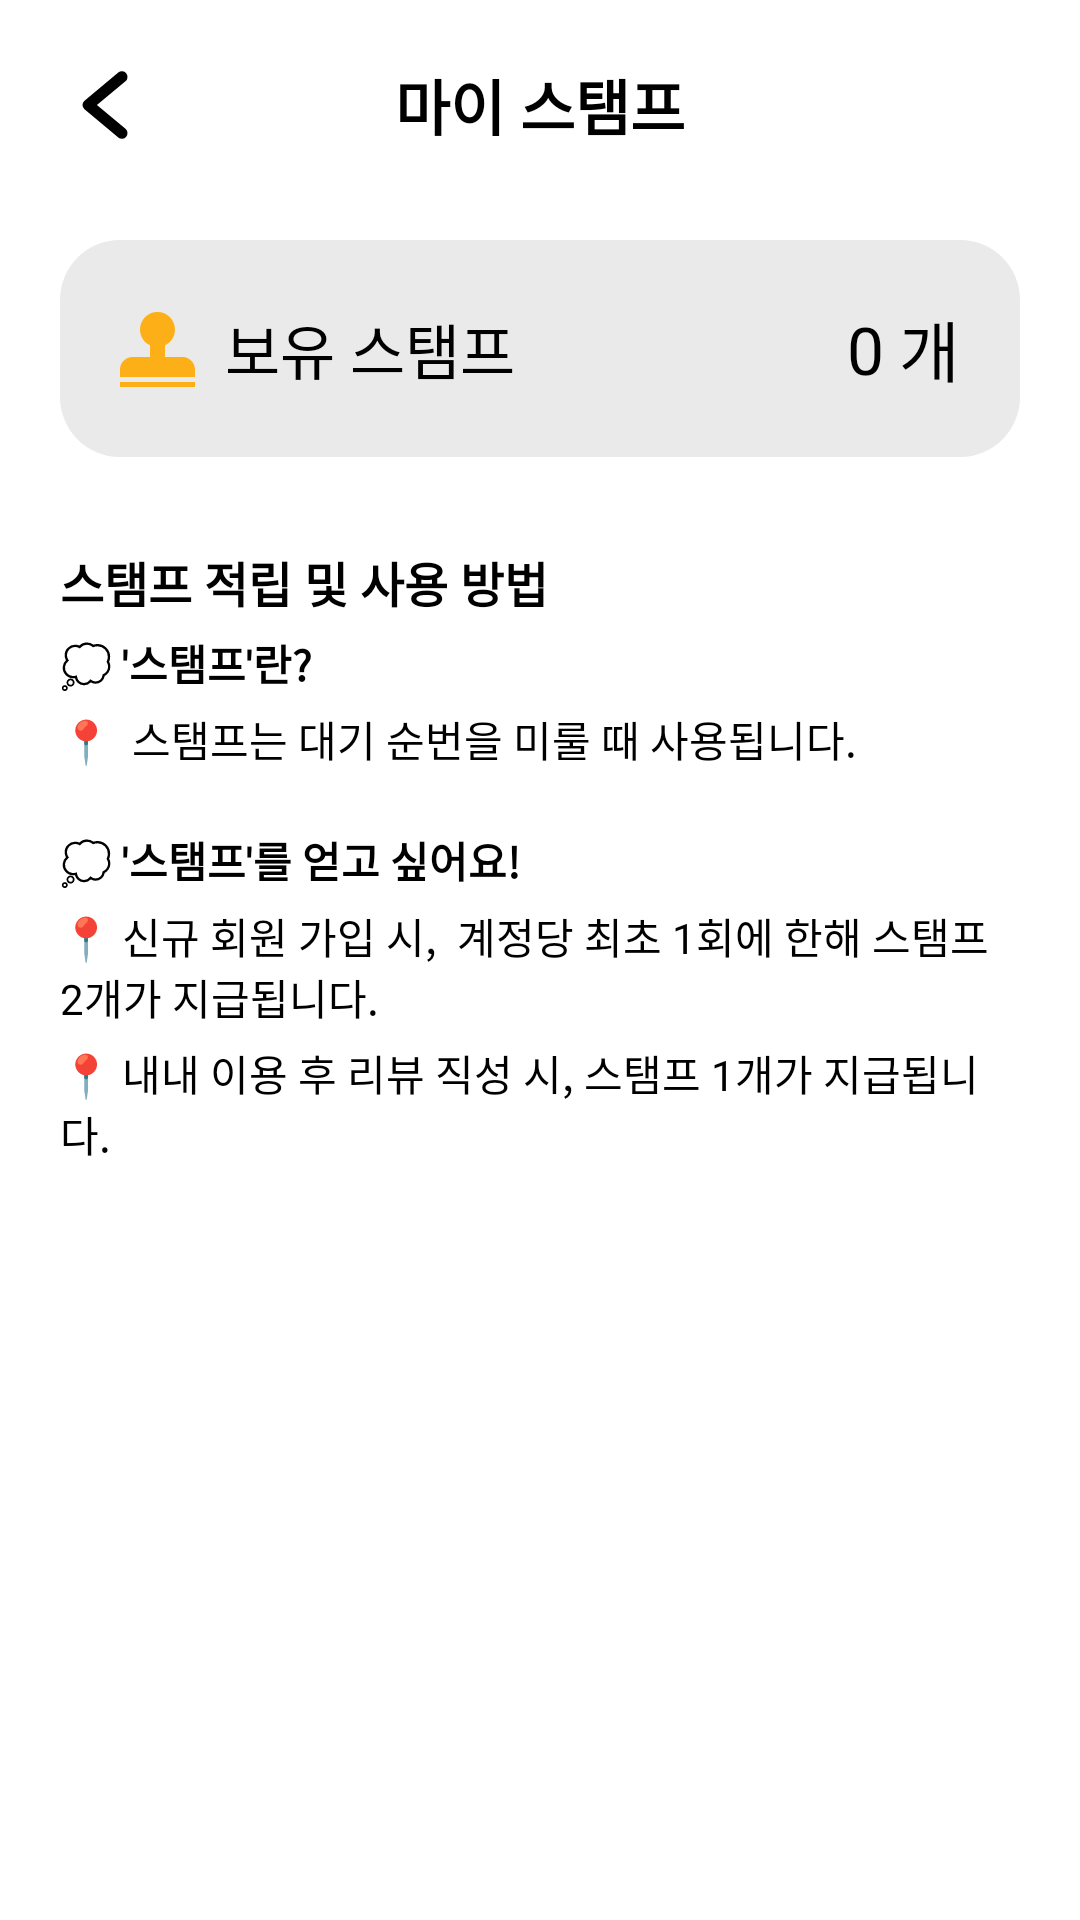

Point at icon controls on the screen. Image size 1080px×1920px, points as point (x, y).
back: point (105, 105)
stamp: point (157, 349)
